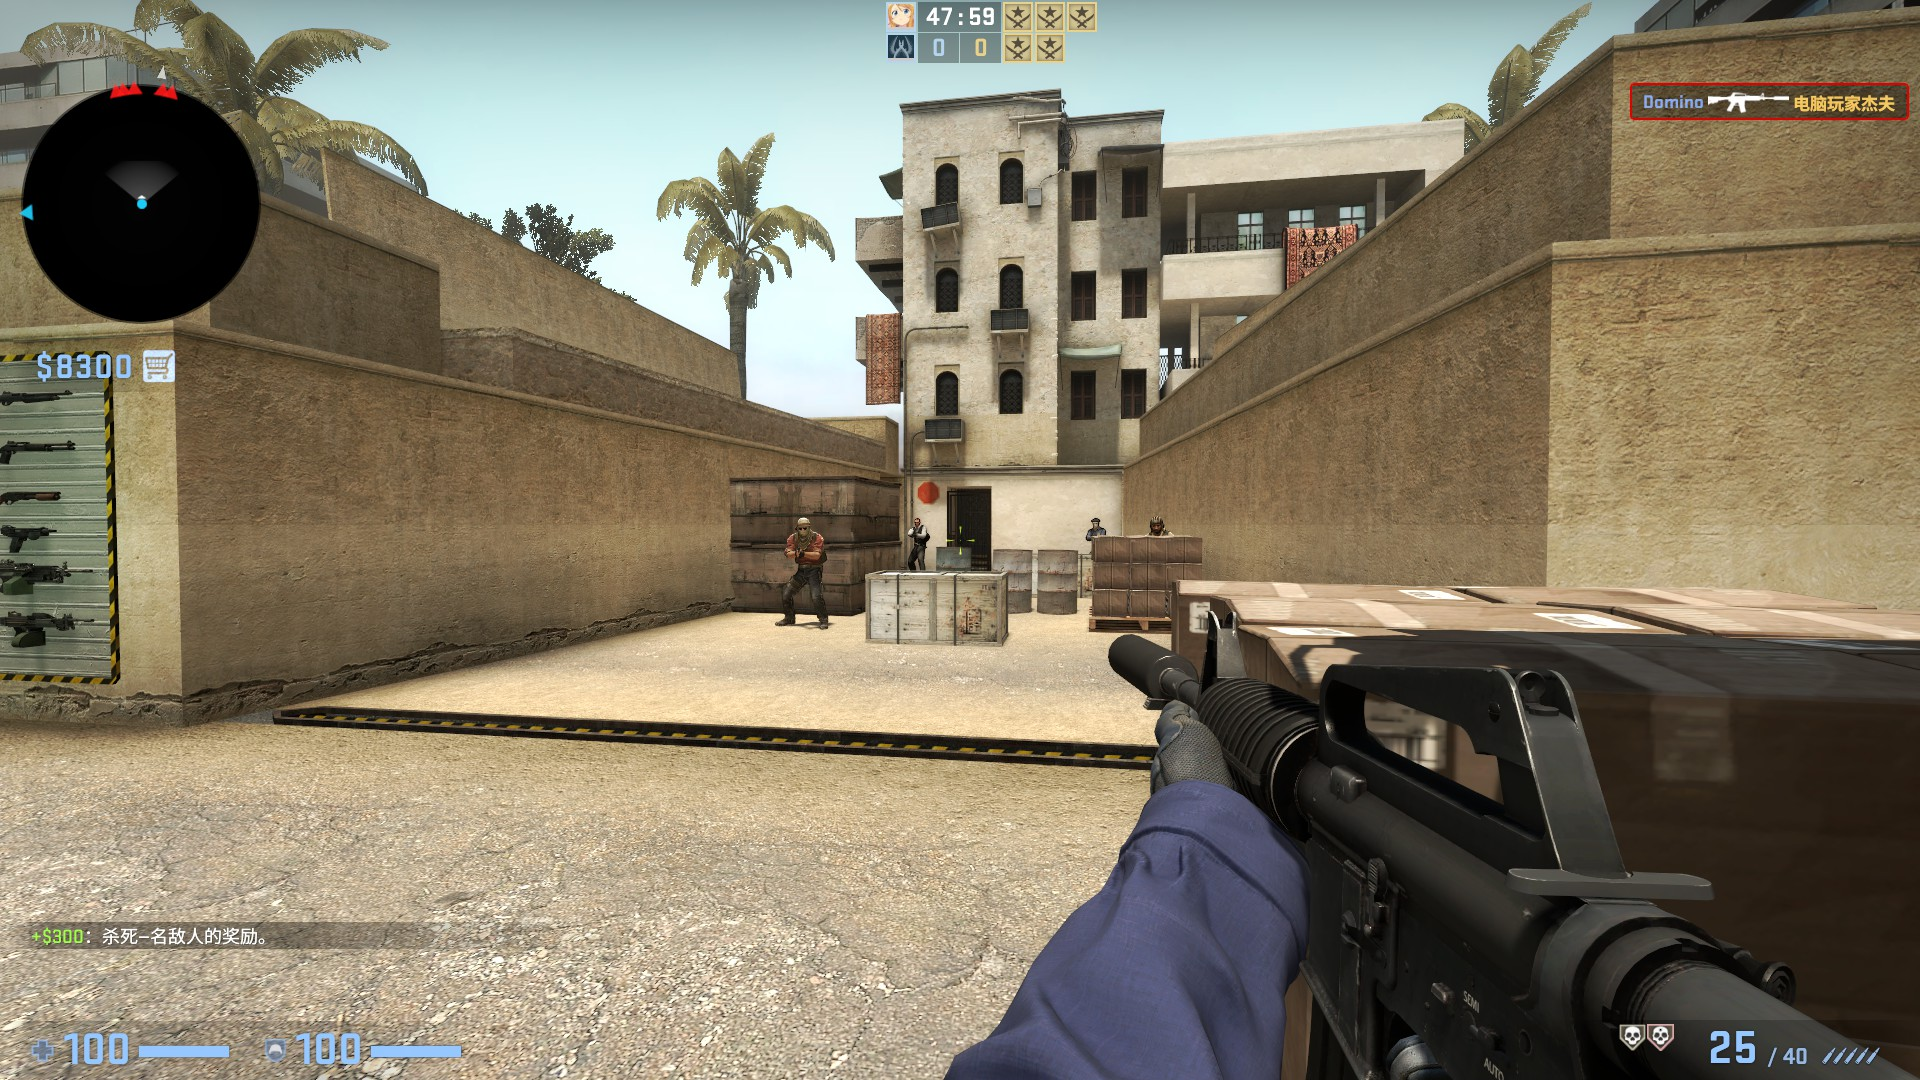head: (1148, 516, 1165, 535), (795, 516, 810, 536), (1090, 517, 1100, 531), (912, 517, 919, 526)
